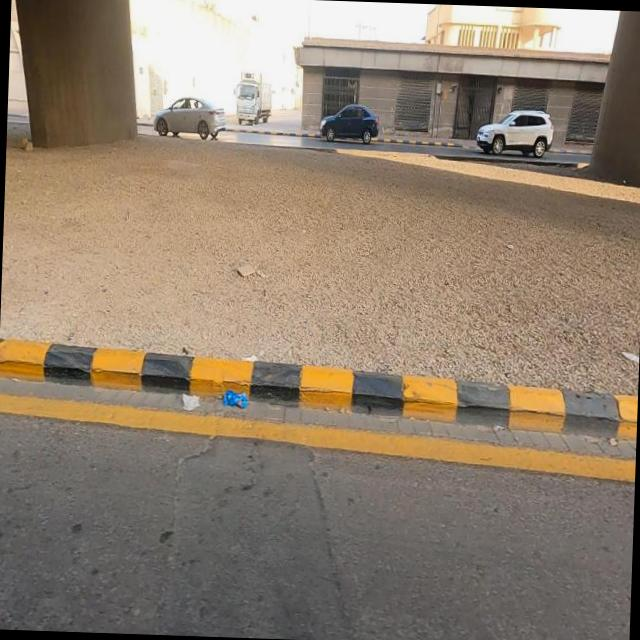debris: (120, 352, 295, 458), (209, 230, 274, 316)
